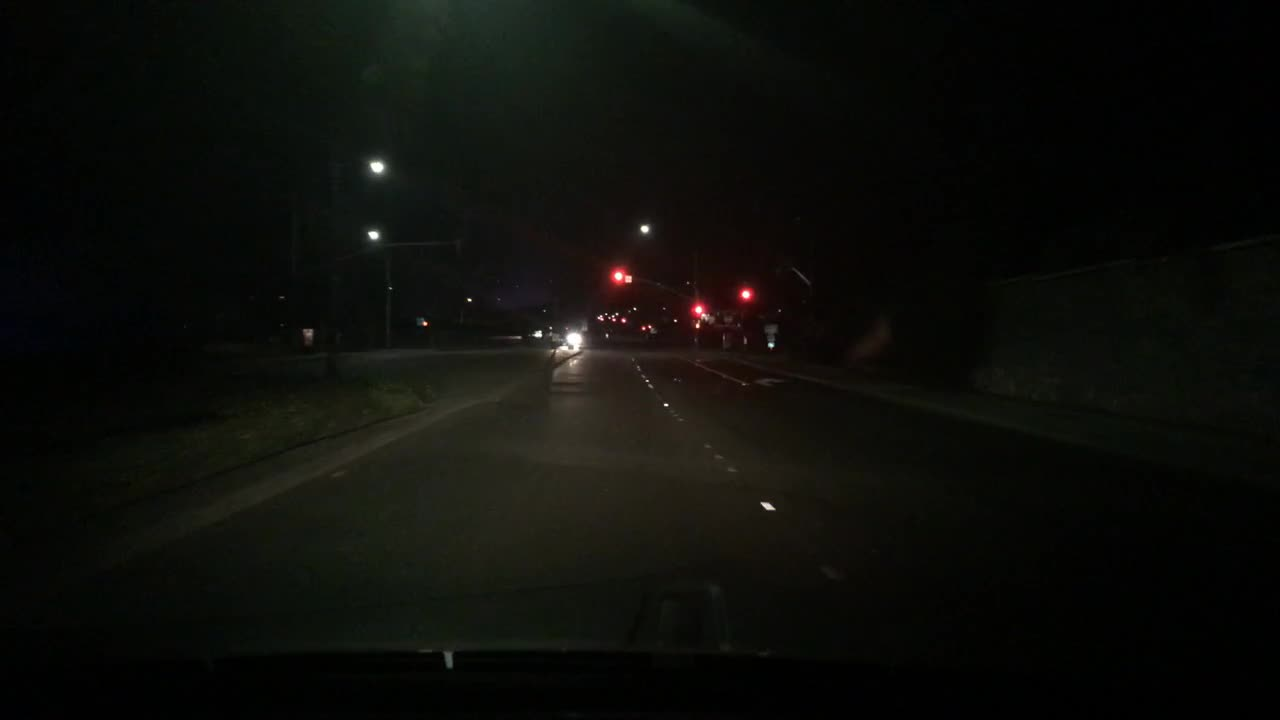car: (565, 328, 582, 346)
traffic light: (739, 285, 752, 301), (691, 301, 704, 316), (611, 267, 621, 284), (620, 315, 628, 325), (639, 323, 644, 333)
traffic sign: (623, 273, 632, 286)
